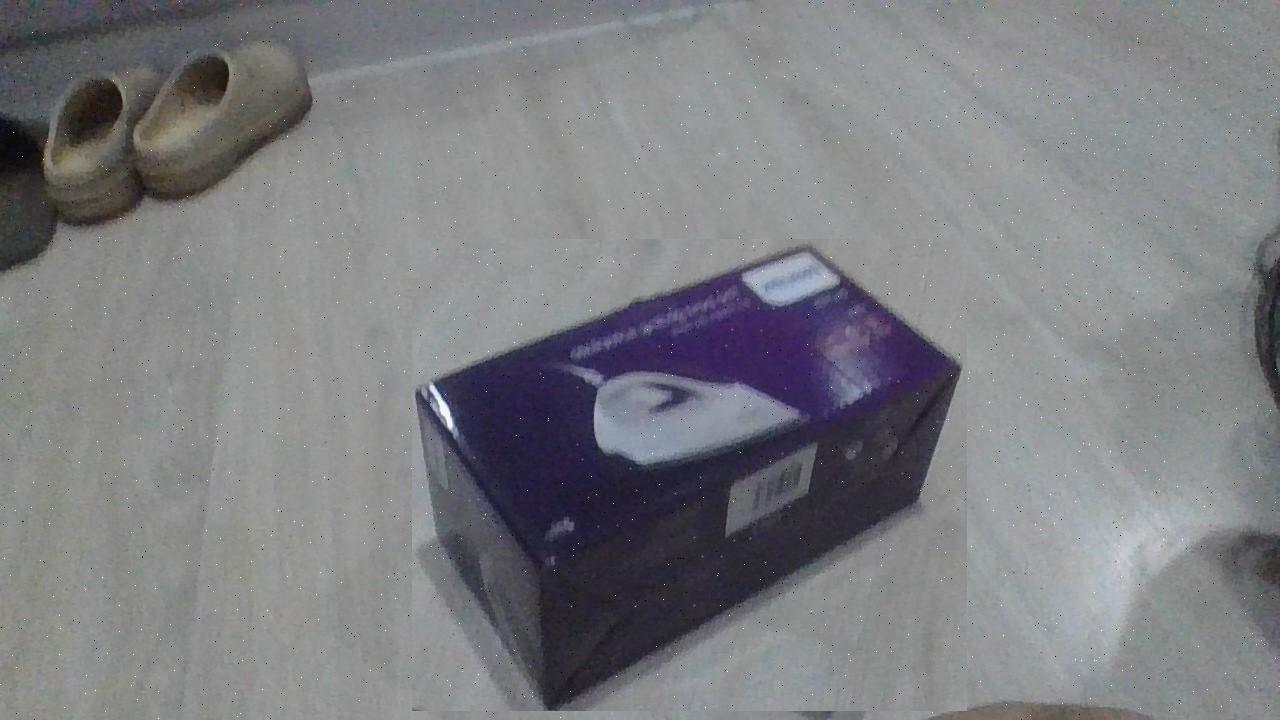IRON: (412, 239, 967, 711)
